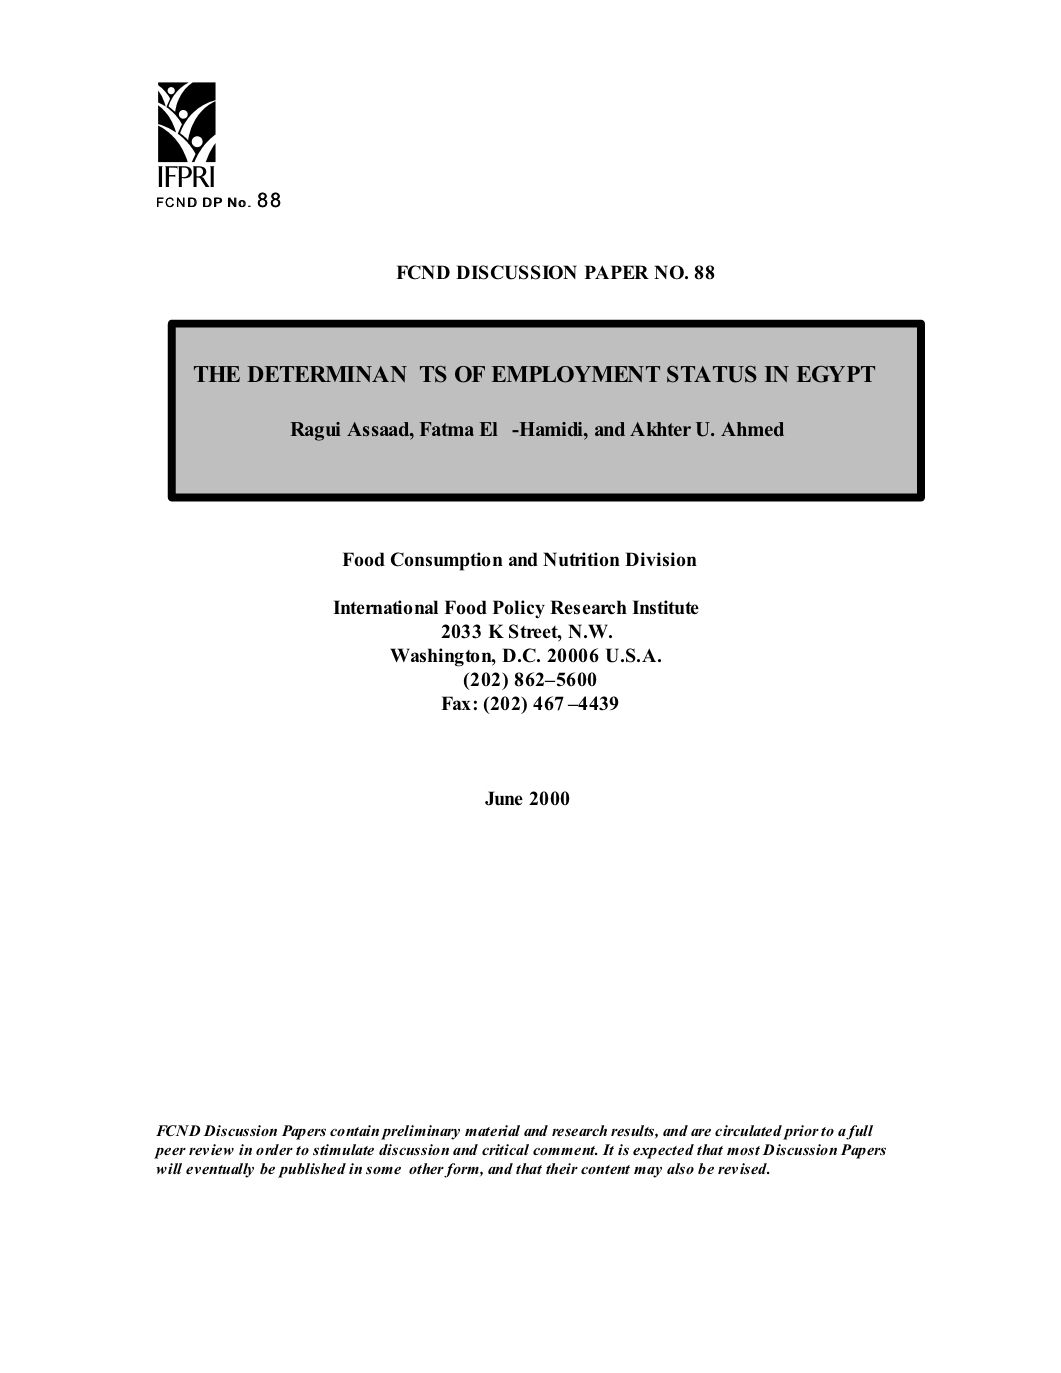figure: (167, 318, 924, 502), (158, 82, 215, 186)
